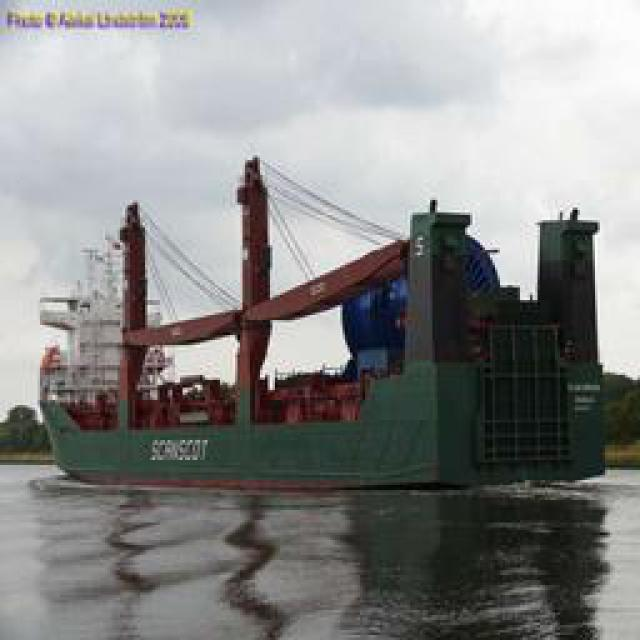Ship: (20, 144, 620, 503)
